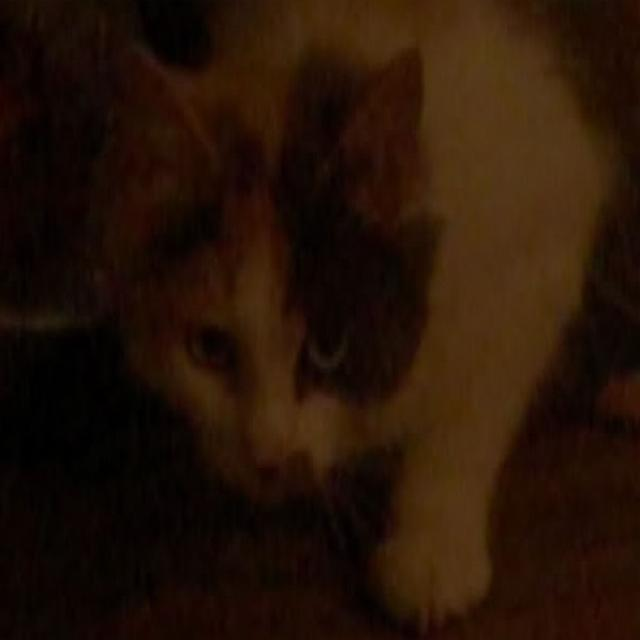Cat: (93, 0, 631, 617)
